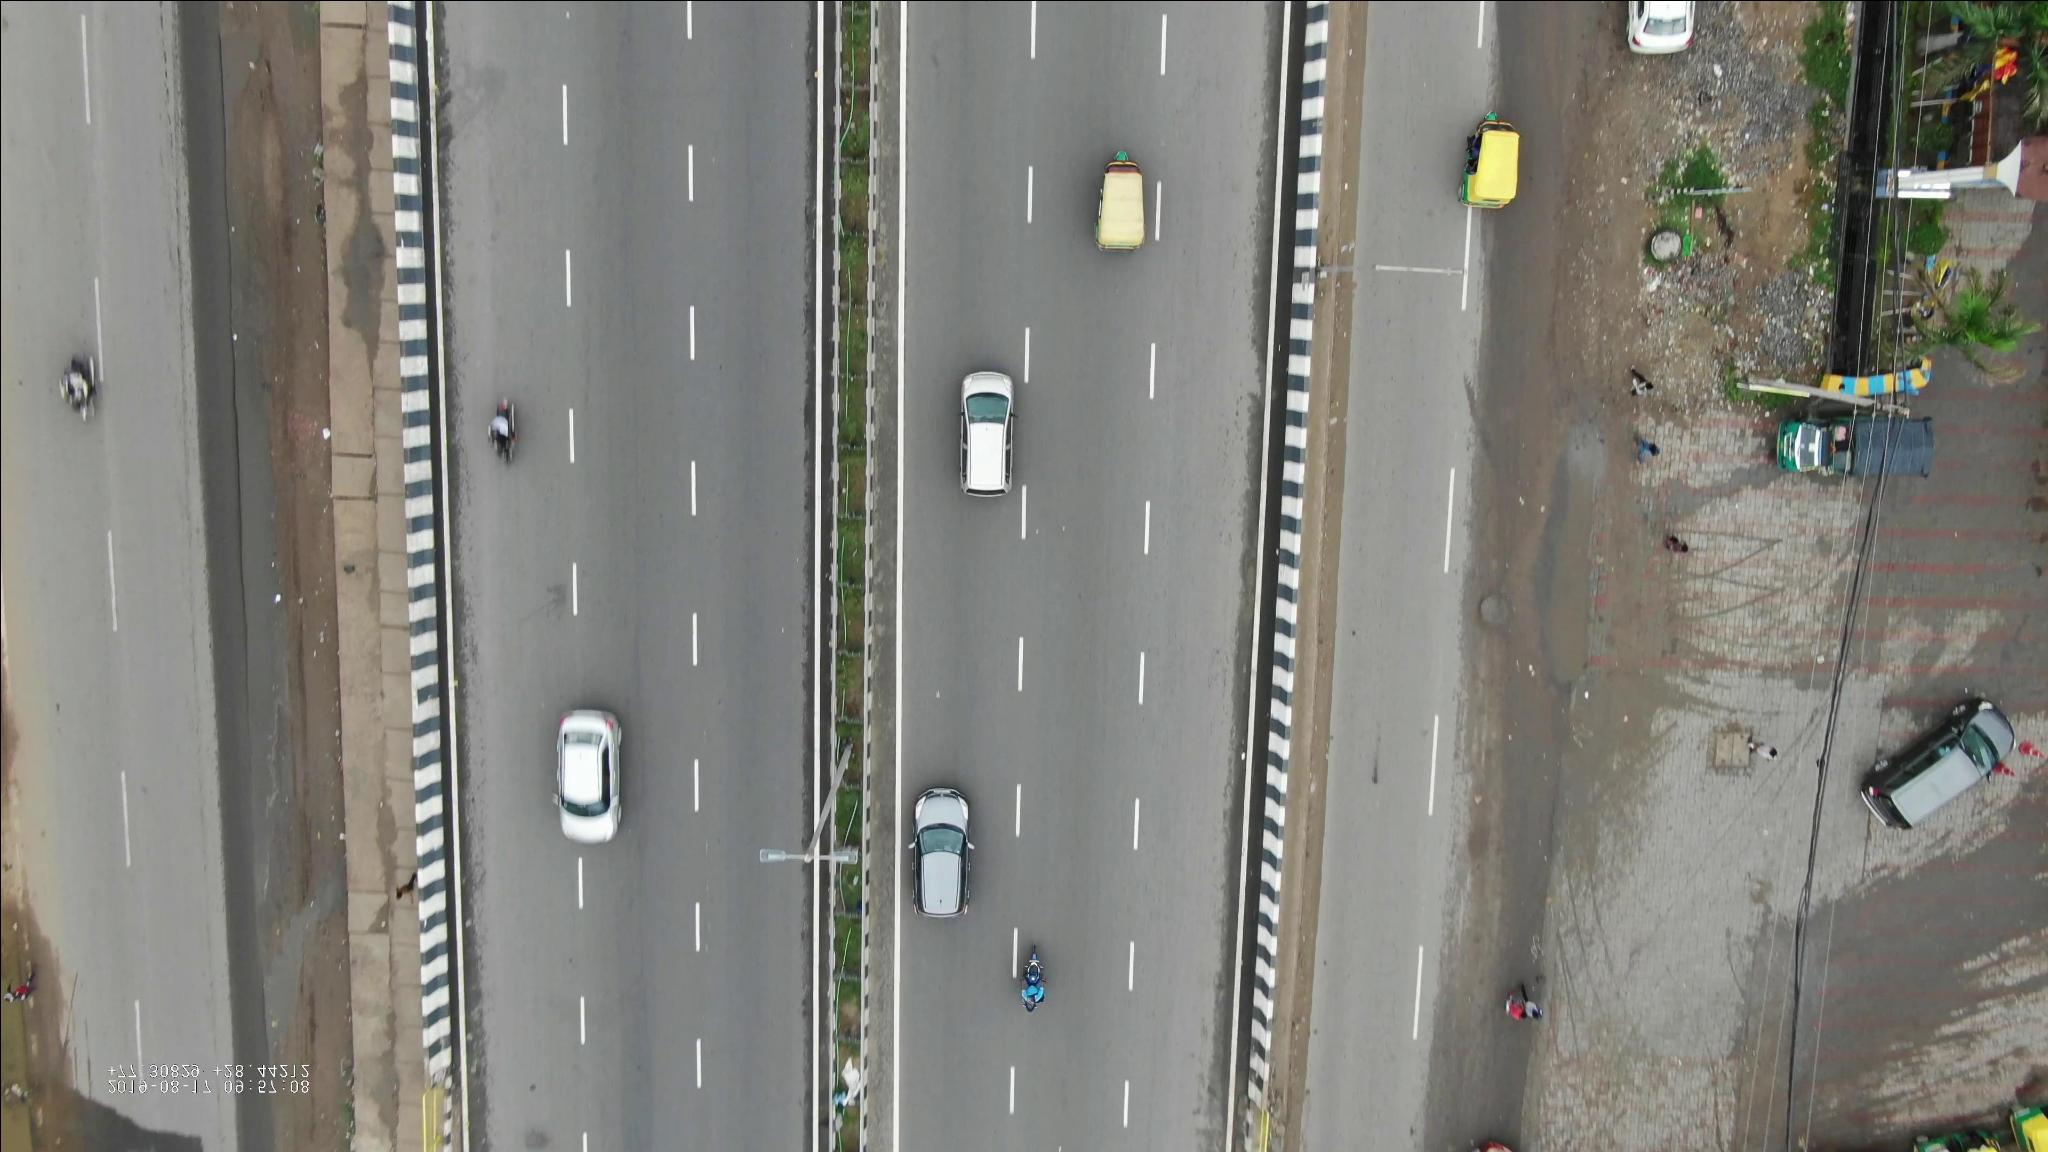Waterlogging: (1540, 429, 1613, 715)
